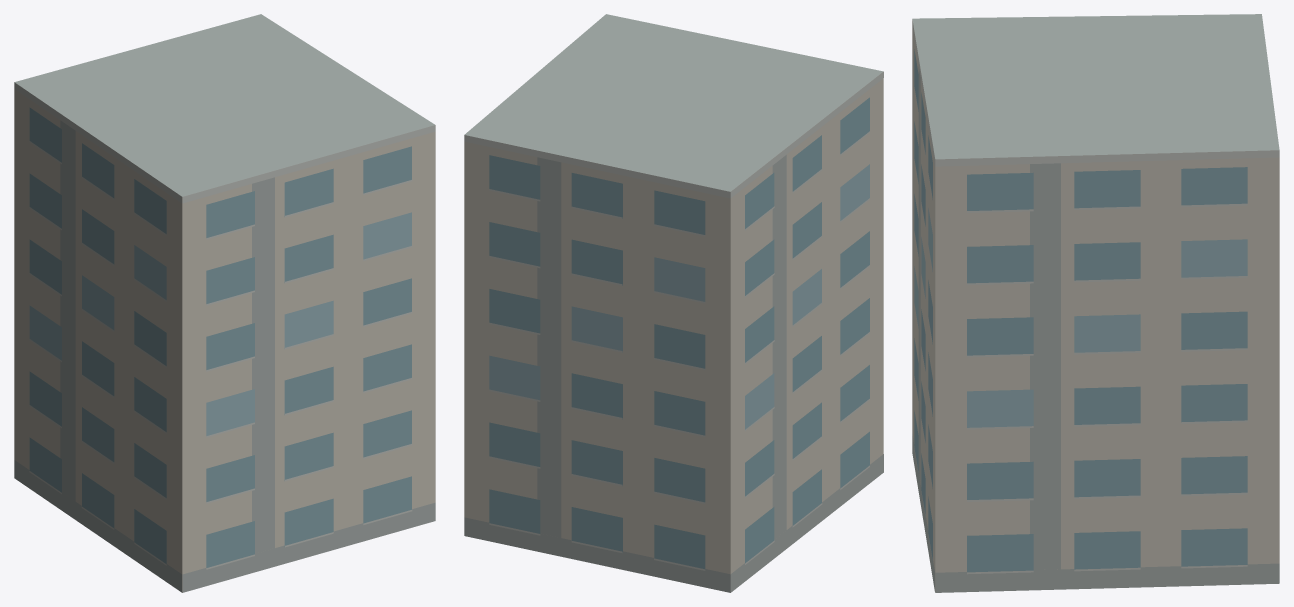
File: survey-upis-32883384.glb
3 views of the same model, side by side, from view 1: azimuth 30°, elevation 25°; view 2: azimuth 150°, elevation 25°; view 3: azimuth 270°, elevation 25° (orthographic). The views are drawn at different scales.
Visible parts, largest first — view 1: survey-upis-32883384.tmp; view 2: survey-upis-32883384.tmp; view 3: survey-upis-32883384.tmp.
Boxes of the visible parts, x1,y1,x2,y2 form: survey-upis-32883384.tmp: (14,14,435,592); survey-upis-32883384.tmp: (464,14,883,592); survey-upis-32883384.tmp: (912,14,1279,592).
Bounding box in the file's own units: 10.47 × 14.55 × 11.18.
